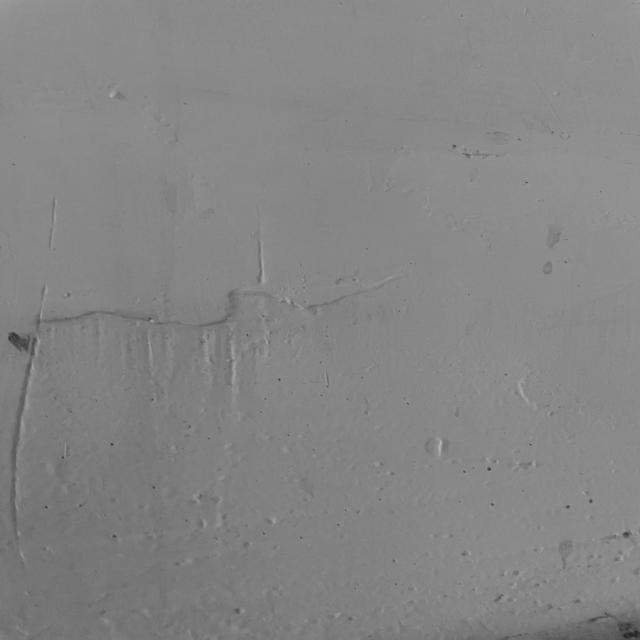rough and patchy surface: (11, 81, 632, 632)
